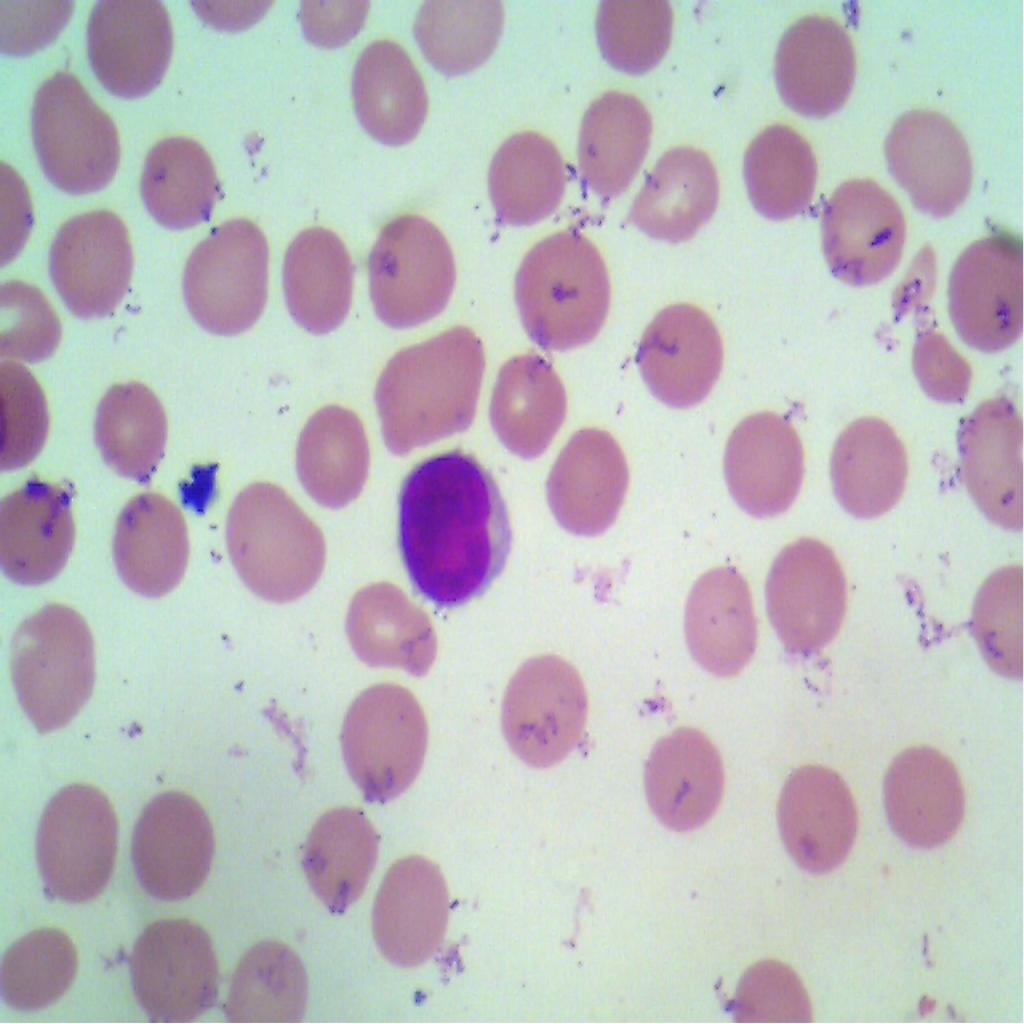Eritrosit: (366, 319, 484, 462), (8, 598, 104, 744), (878, 89, 978, 228), (23, 64, 126, 198), (714, 390, 814, 528), (222, 477, 328, 607), (509, 228, 615, 358), (356, 208, 462, 335), (878, 734, 978, 868), (759, 9, 869, 130), (626, 288, 722, 425), (503, 644, 596, 782), (174, 212, 278, 334), (769, 751, 861, 885), (756, 536, 855, 658), (826, 408, 918, 538), (334, 680, 426, 808), (474, 112, 568, 237), (126, 788, 222, 909), (36, 778, 124, 908), (46, 204, 146, 318), (731, 117, 826, 237), (122, 909, 220, 1023), (103, 485, 198, 602), (816, 178, 910, 296), (338, 577, 441, 684), (294, 802, 386, 921), (78, 0, 181, 106), (370, 850, 456, 972), (946, 225, 1023, 361), (273, 224, 358, 343), (950, 397, 1024, 532), (644, 719, 730, 834), (0, 477, 86, 592), (293, 391, 373, 514), (342, 38, 430, 148), (546, 424, 630, 538), (628, 142, 713, 254), (678, 566, 761, 678), (486, 351, 568, 459), (140, 134, 226, 235), (406, 0, 518, 77), (582, 84, 651, 202), (89, 382, 171, 481), (226, 934, 311, 1023), (903, 317, 976, 417), (0, 924, 79, 1014), (0, 275, 66, 361)
Limfosit: (386, 444, 518, 618)
